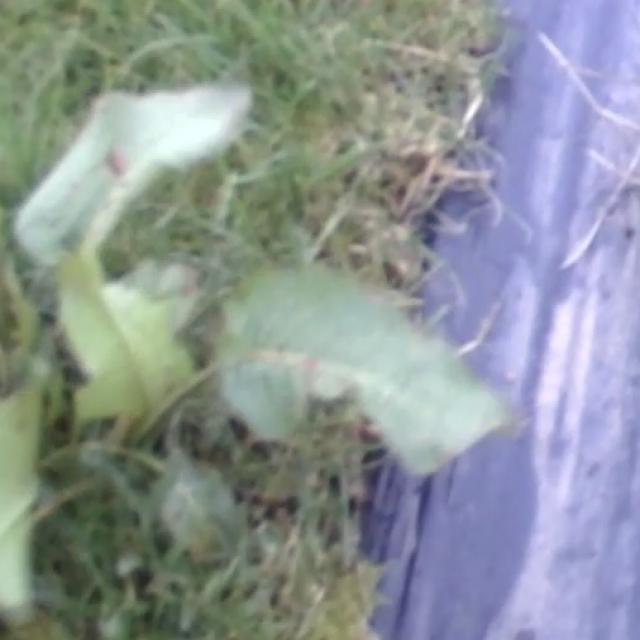organic waste: (0, 74, 541, 615)
